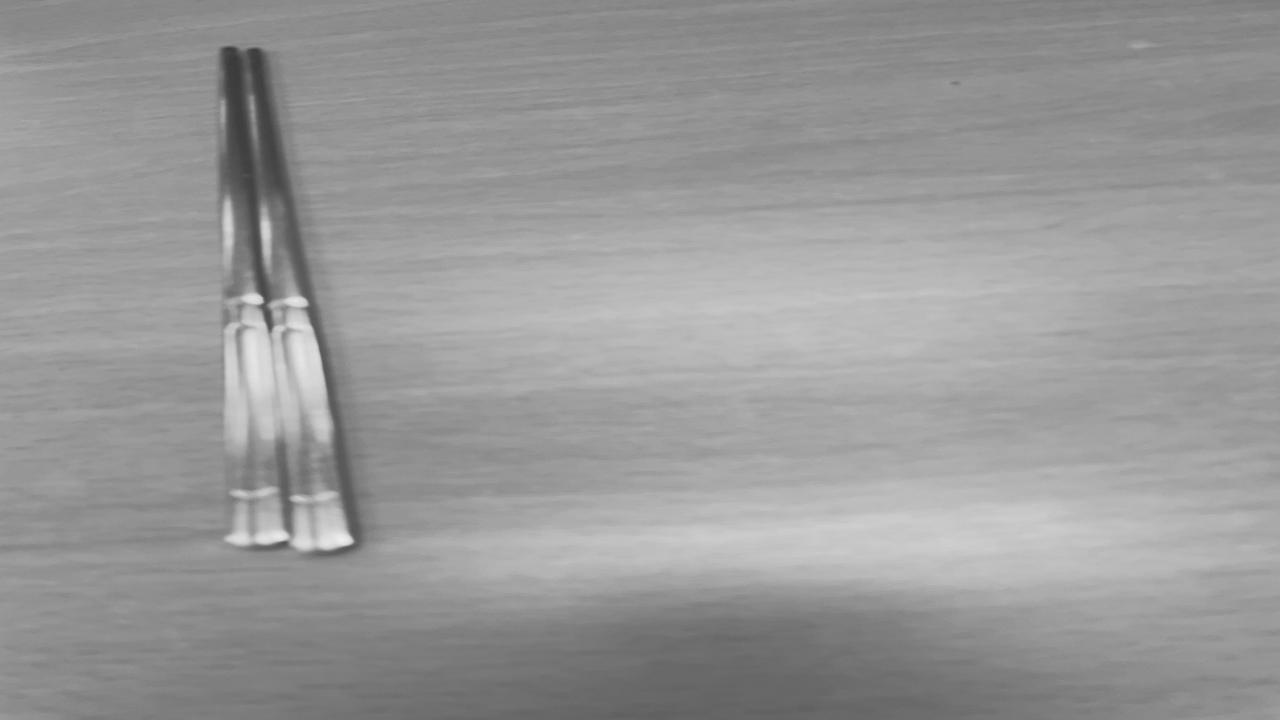chopstick: (218, 46, 353, 552)
